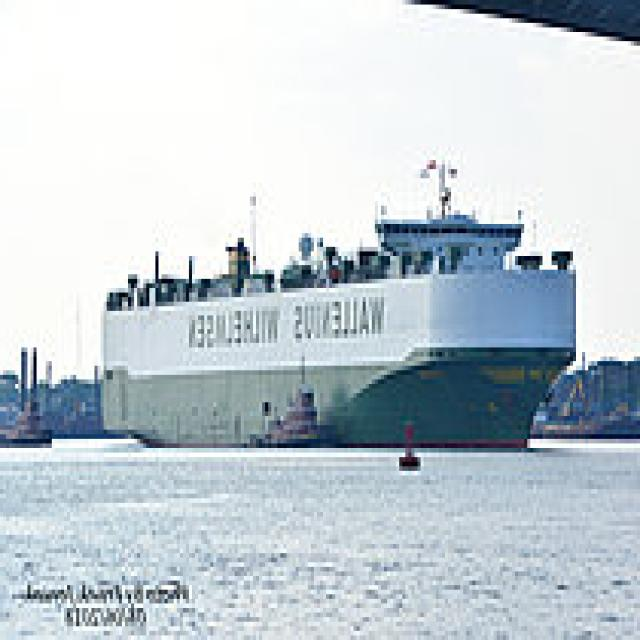Carrier: (101, 142, 585, 448)
